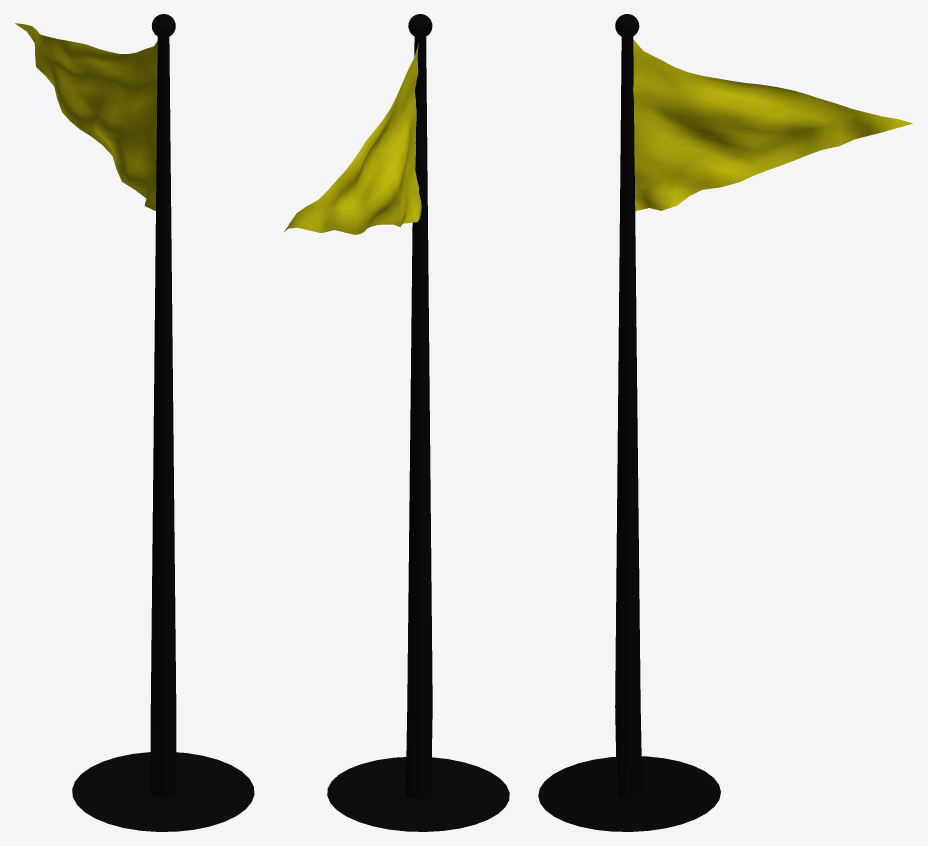
File: FlagSeperateAnimated.fbx
3 renders of one model, left to right at view 1: azimuth 30°, elevation 25°; view 2: azimuth 150°, elevation 25°; view 3: azimuth 270°, elevation 25°, orthographic.
Visible parts, largest first — view 1: Cylinder, Plane, Sphere; view 2: Cylinder, Plane, Sphere; view 3: Cylinder, Plane.
Boxes of the visible parts, left/top/right/bottom form: Cylinder: left=72, top=36, right=254, bottom=831; Plane: left=15, top=23, right=157, bottom=210; Sphere: left=151, top=14, right=175, bottom=37; Cylinder: left=327, top=37, right=509, bottom=831; Plane: left=284, top=44, right=421, bottom=234; Sphere: left=408, top=14, right=432, bottom=37; Cylinder: left=538, top=36, right=720, bottom=831; Plane: left=633, top=40, right=913, bottom=211.
Bounding box in the file's own units: 0.9489 × 4.47 × 1.95.
